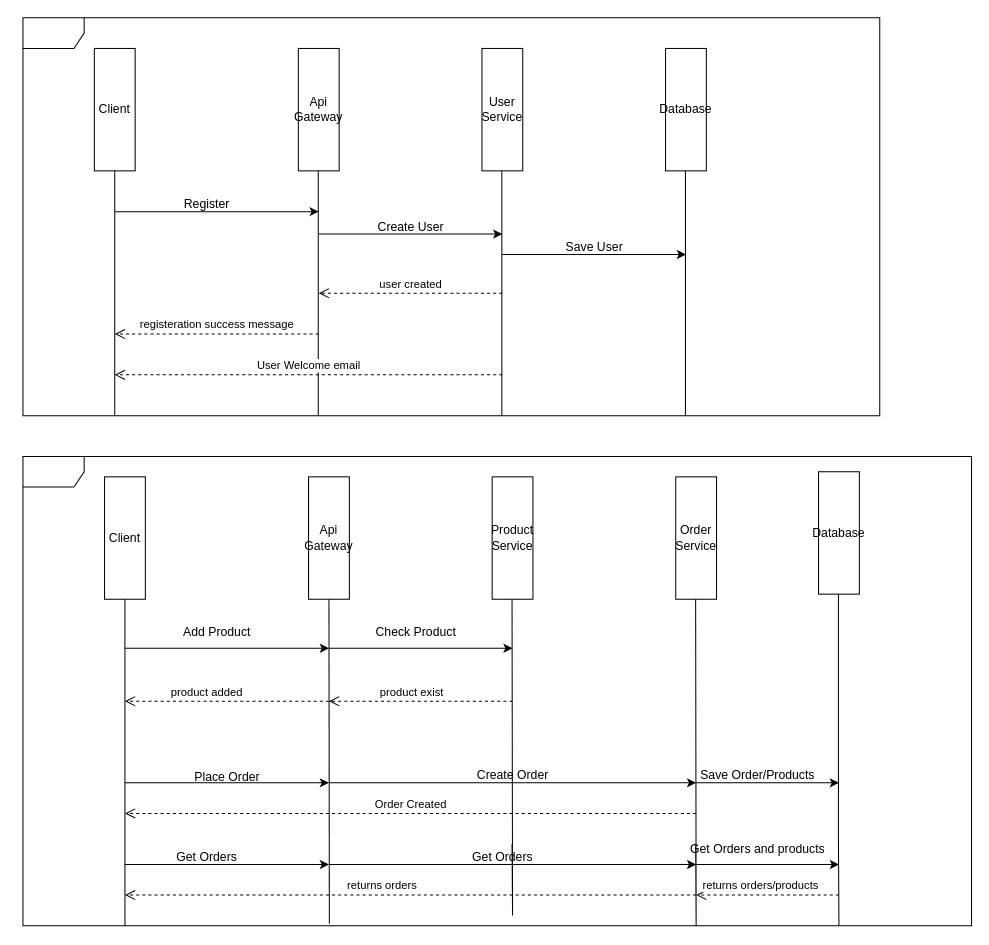
This 989x945 diagram has some shape labels left out. The shapes that lost their labels are listed below. From the top down, each one's box as (x1, y1, x2, y2) in pixels, then its label:
(22, 17, 880, 416): Users Registeration
(22, 455, 972, 926): Users Orders
